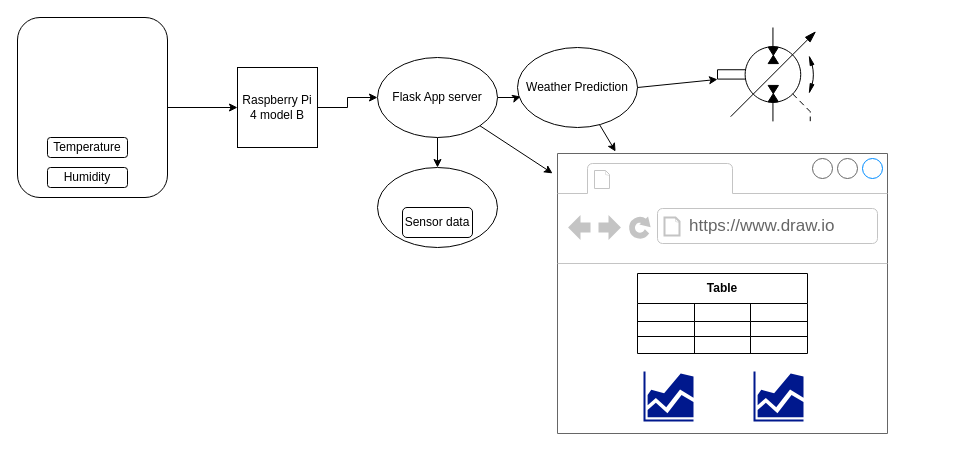
This 955x451 diagram has some shape labels left out. Each missing label, with the box of its shape:
DHT22 Sensor: (16, 16, 168, 198)
Servo Motor: (716, 26, 815, 121)
Sqlite Database: (376, 166, 498, 248)
System UI: (616, 164, 728, 192)
